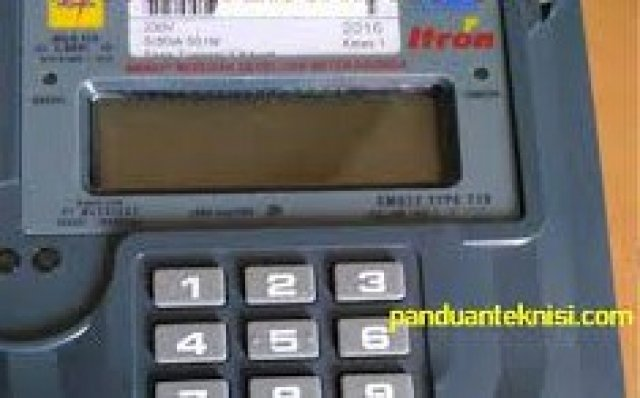box: (94, 95, 448, 184)
